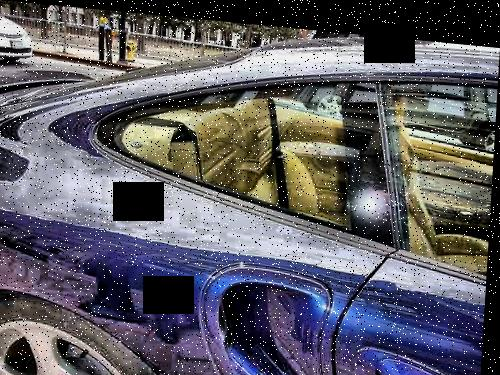seatbelt: (247, 74, 302, 197)
